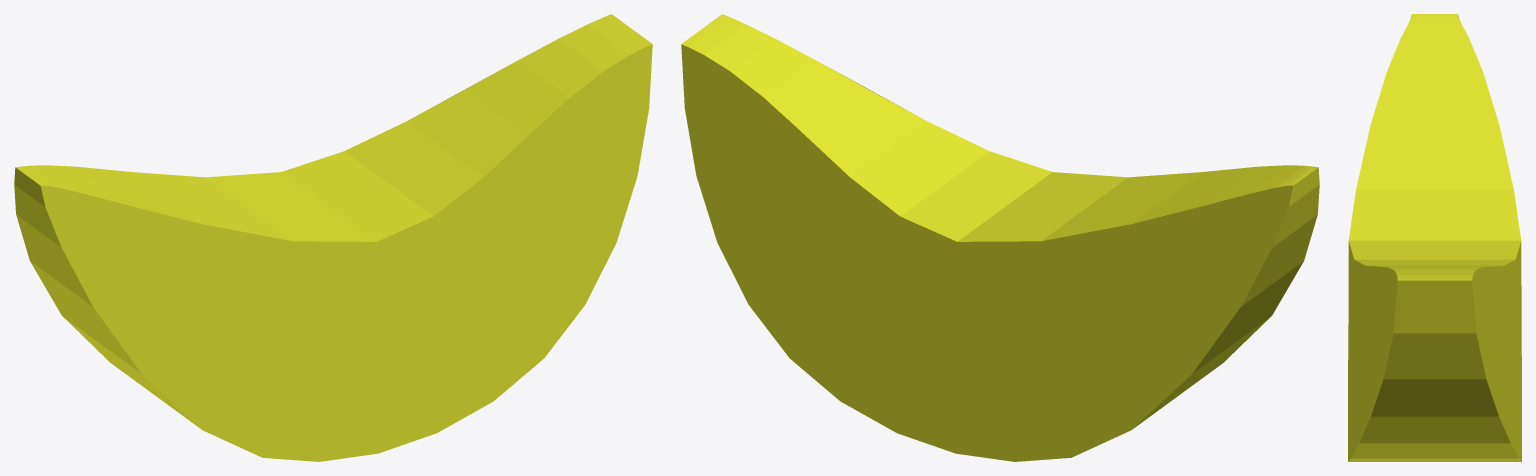
File: lemon.glb
3 views of the same model, side by side, from view 1: azimuth 30°, elevation 25°; view 2: azimuth 150°, elevation 25°; view 3: azimuth 270°, elevation 25° (orthographic). The views are drawn at different scales.
Visible parts, largest first — view 1: Circle; view 2: Circle; view 3: Circle.
Boxes of the visible parts, x1,y1,x2,y2 form: Circle: (14,14,652,461); Circle: (681,14,1319,461); Circle: (1348,14,1521,461).
Bounding box in the file's own units: 1.03 × 0.5159 × 0.2845.
